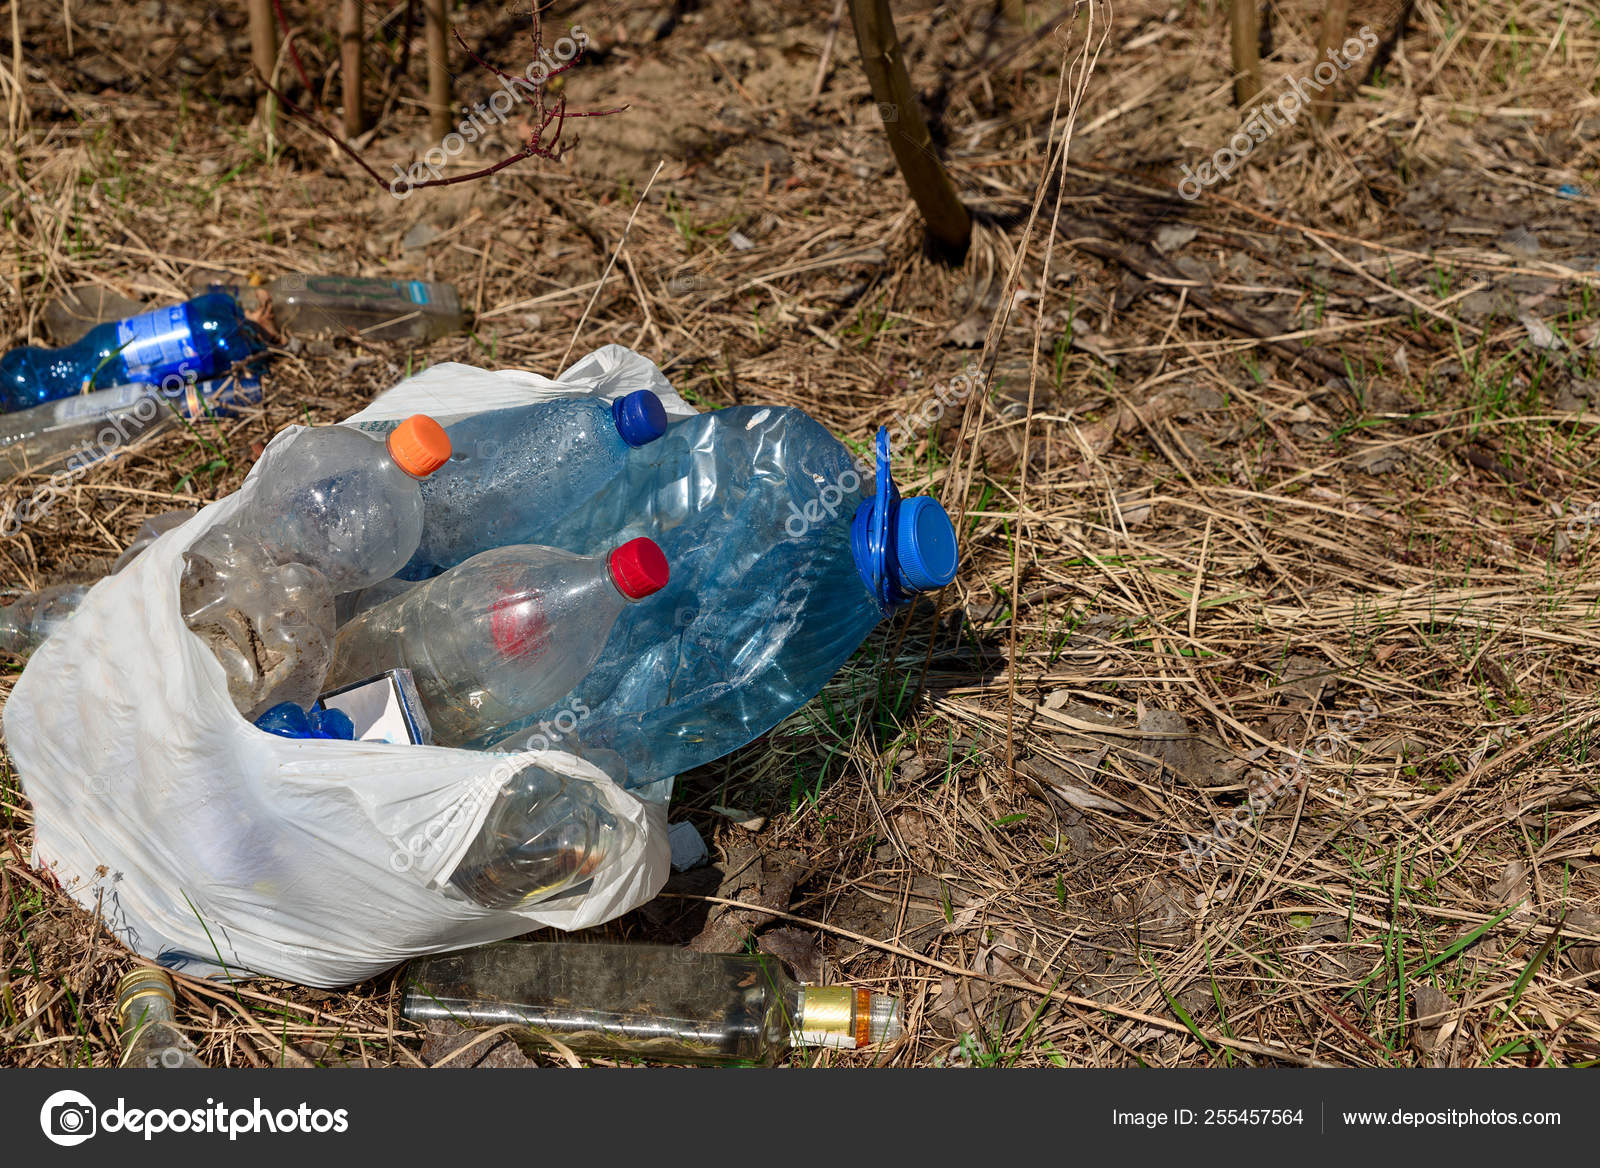plastic_bottle: (270, 152, 1043, 985), (478, 237, 1266, 896), (289, 445, 1075, 1003), (641, 70, 1142, 877), (6, 205, 552, 874), (128, 275, 517, 960), (183, 108, 907, 445), (1, 350, 455, 577), (353, 900, 944, 1070), (325, 882, 355, 898), (325, 898, 352, 905)
